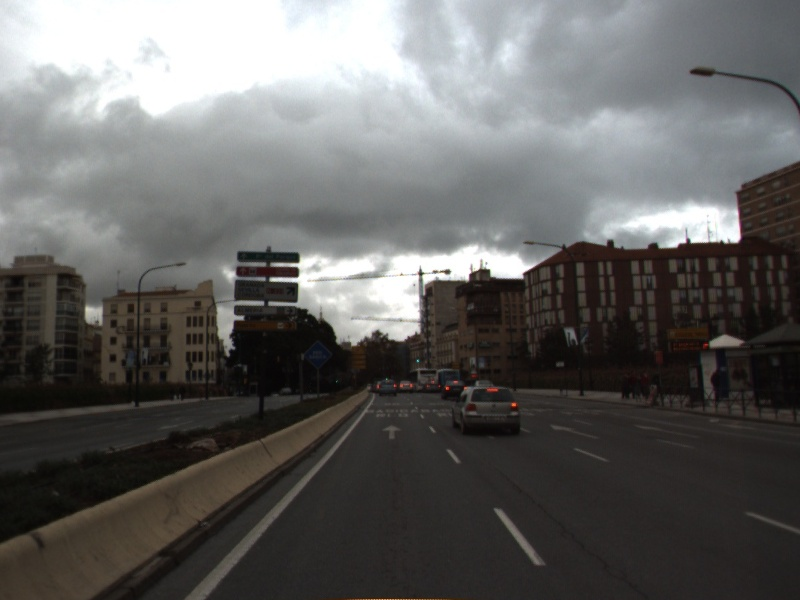STRAIGHT: (631, 422, 703, 440), (548, 422, 603, 441), (380, 422, 405, 441)
